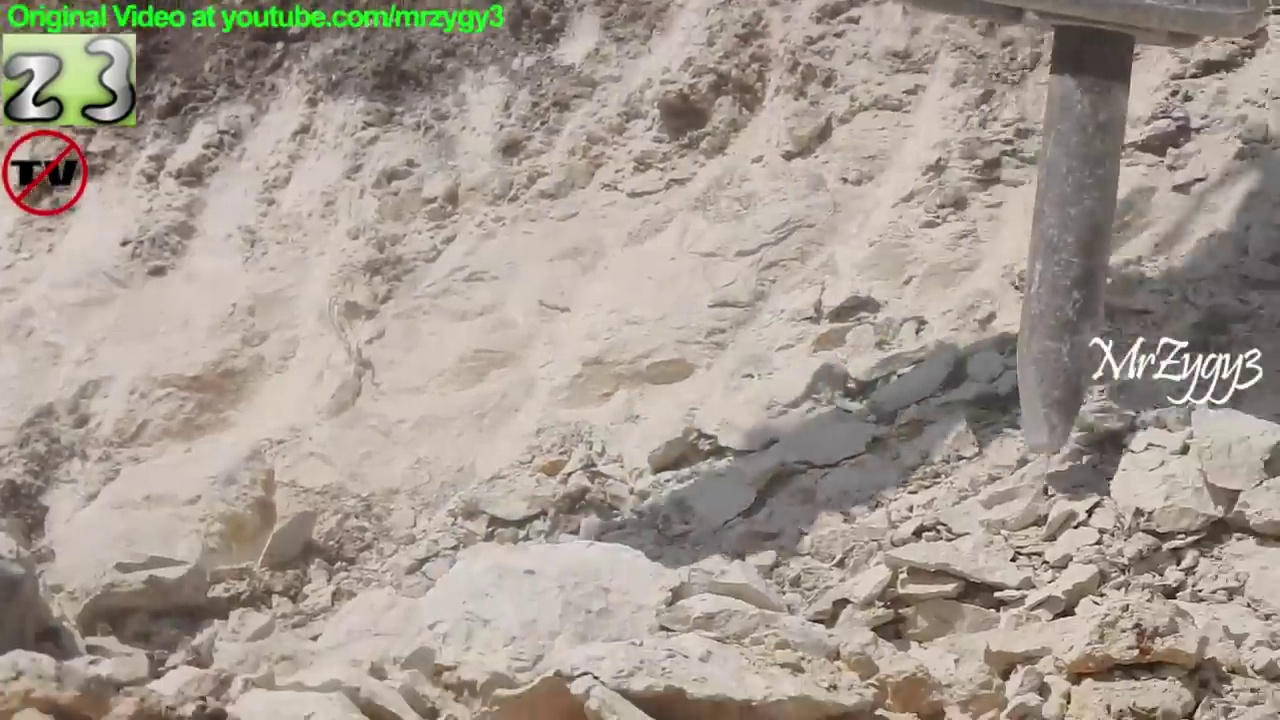excavator: (918, 1, 1271, 462)
